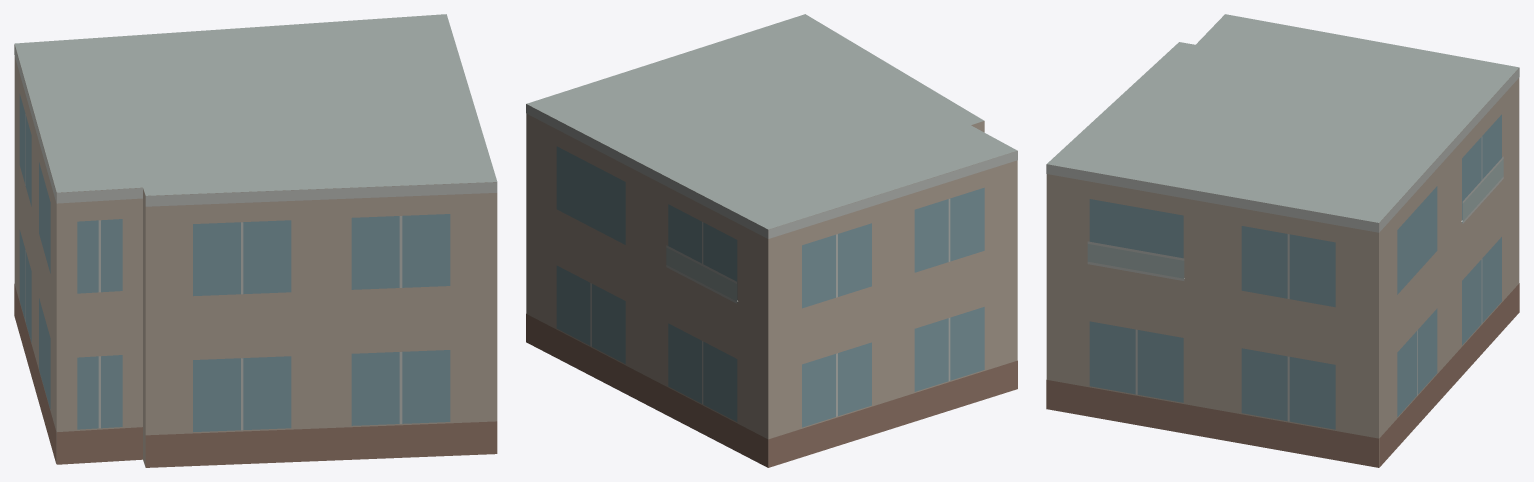
File: survey-upis-32567323.glb
3 renders of one model, left to right at view 1: azimuth 30°, elevation 25°; view 2: azimuth 150°, elevation 25°; view 3: azimuth 270°, elevation 25°, orthographic. The views are drawn at different scales.
Parts seen in each view (by area): view 1: survey-upis-32567323.tmp; view 2: survey-upis-32567323.tmp; view 3: survey-upis-32567323.tmp.
Part boxes in pixels (bbox=[...]): survey-upis-32567323.tmp: bbox=[14, 14, 497, 467]; survey-upis-32567323.tmp: bbox=[526, 14, 1017, 467]; survey-upis-32567323.tmp: bbox=[1046, 14, 1519, 467].
Size of the model in its own units: 11.17 by 6.1 by 10.69.
